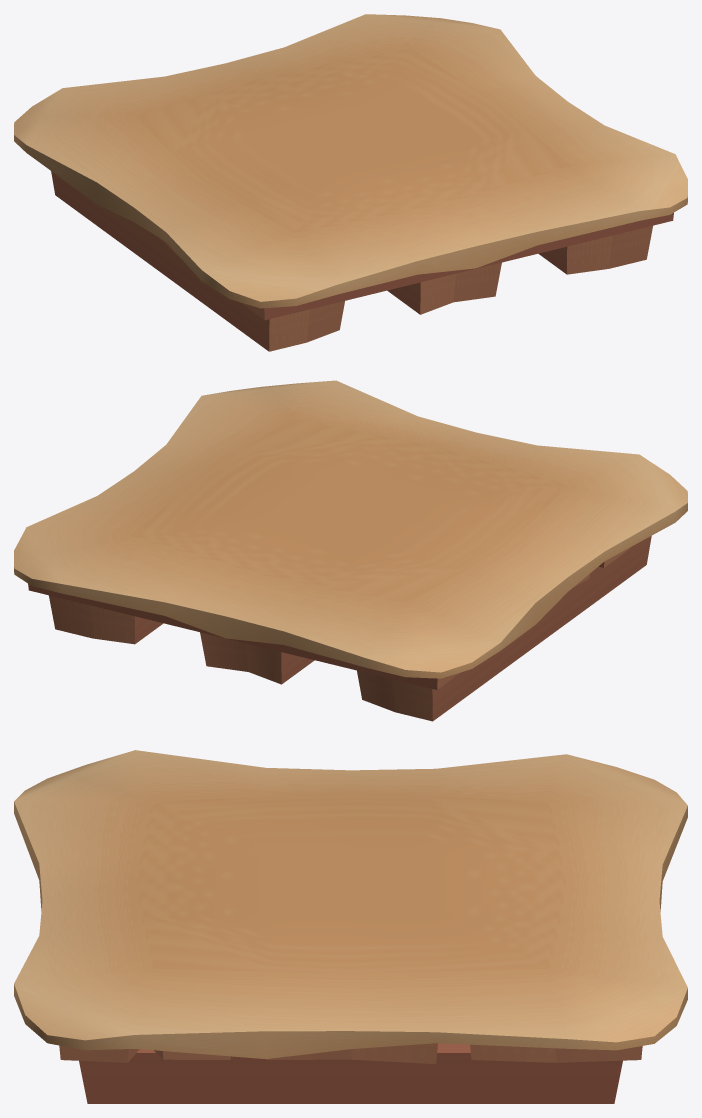
Rendered from pallet-wood-covered-a.glb.
The picture shows the model from 3 angles, top to bottom: view 1: azimuth 30°, elevation 25°; view 2: azimuth 150°, elevation 25°; view 3: azimuth 270°, elevation 25°; orthographic projection. The views are drawn at different scales.
Visible parts, largest first — view 1: Pallet_Wood_Covered_A; view 2: Pallet_Wood_Covered_A; view 3: Pallet_Wood_Covered_A.
Boxes of the visible parts, x1=… form: Pallet_Wood_Covered_A: x1=14, y1=14, x2=687, y2=351; Pallet_Wood_Covered_A: x1=14, y1=380, x2=687, y2=721; Pallet_Wood_Covered_A: x1=14, y1=750, x2=687, y2=1103.
Bounding box in the file's own units: 1.72 × 0.3 × 1.72.
Materials: 1 (1 with a texture image).
